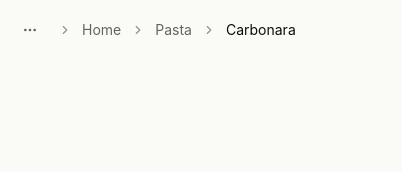
it: Breadcrumb Component › Overflow Handling › expands collapsed items when ellipsis is clicked
The width and height of the screenshot is (402, 172).
Click the button named "Show 2 hidden items": [30, 30] box left=12, top=12, right=48, bottom=48
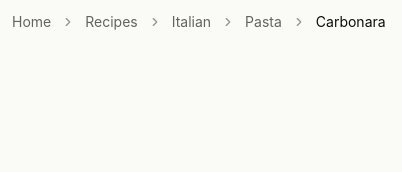
Expected: the link "Home" is shown, left=12, top=12, right=51, bottom=32
Now the link "Recipes" is shown, box left=85, top=12, right=138, bottom=32
Now the link "Italian" is shown, box left=172, top=12, right=211, bottom=32
